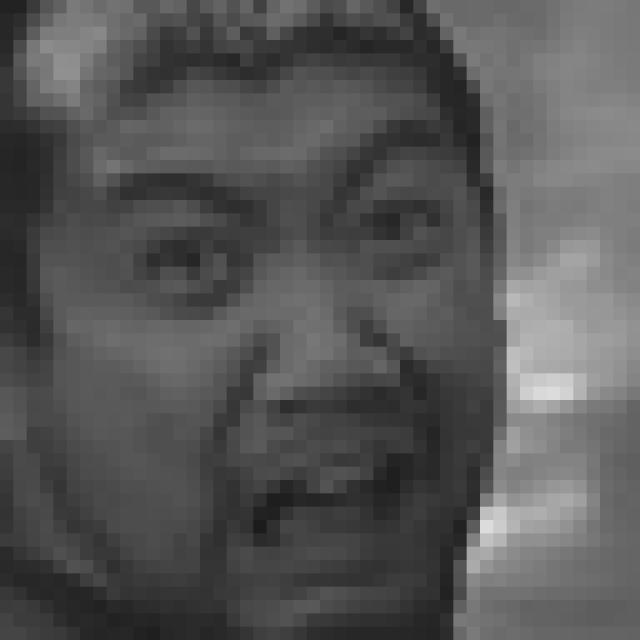fear: (98, 115, 467, 594)
